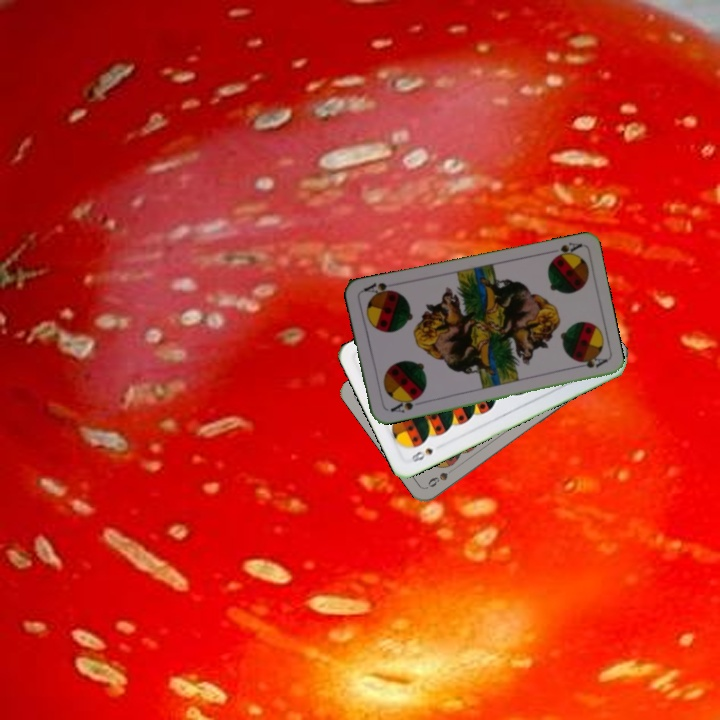S8: (407, 444, 436, 465)
S9: (424, 462, 460, 490)
SA: (544, 238, 584, 262), (386, 393, 422, 415)
